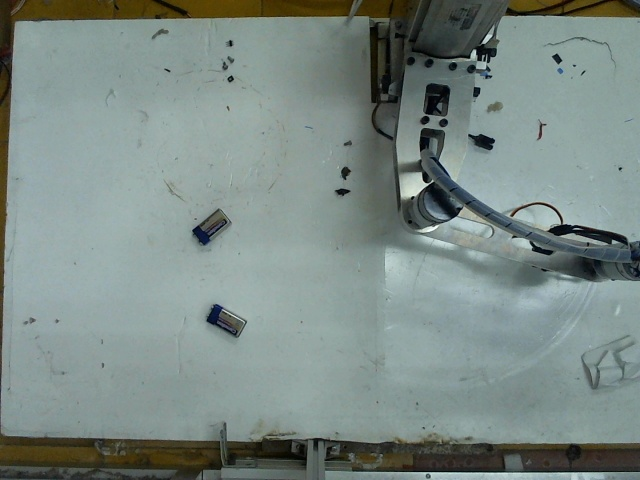battery: (205, 300, 251, 345), (190, 203, 229, 248)
